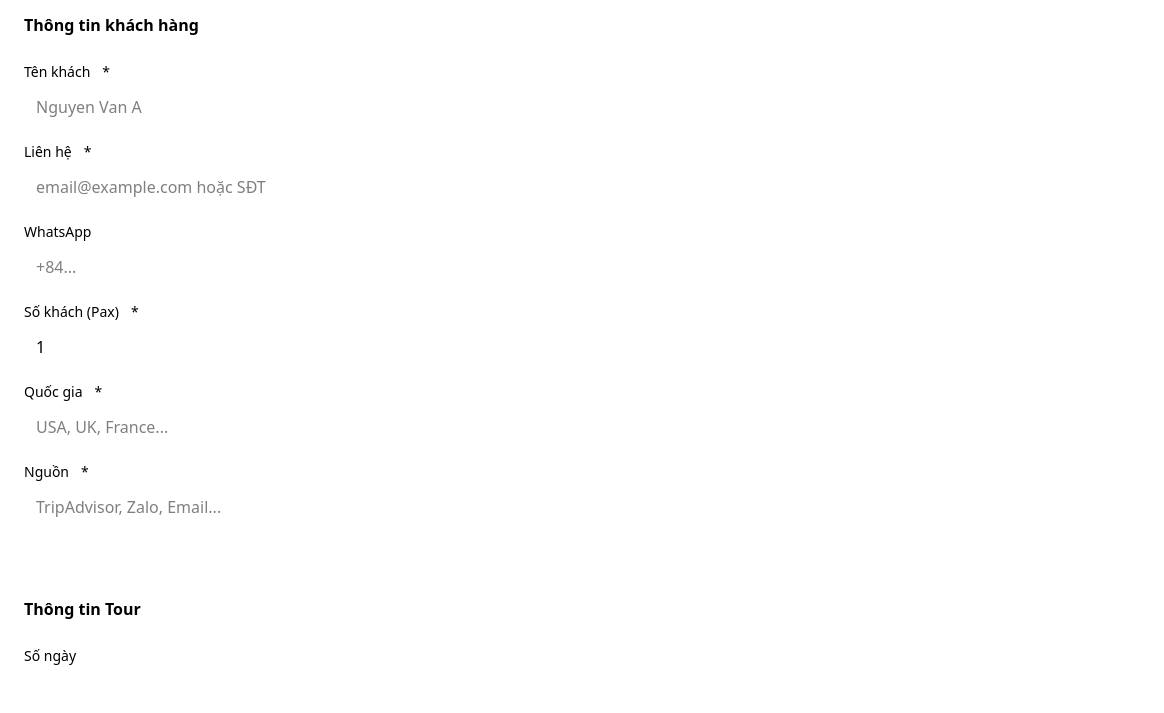
Test: RequestForm › Form Submission › displays error message on submit failure
# Fill required fields
Step 1. Type "Test Customer" into the field with placeholder "Nguyen Van A" → (576, 107), box 24,85 -> 1128,129
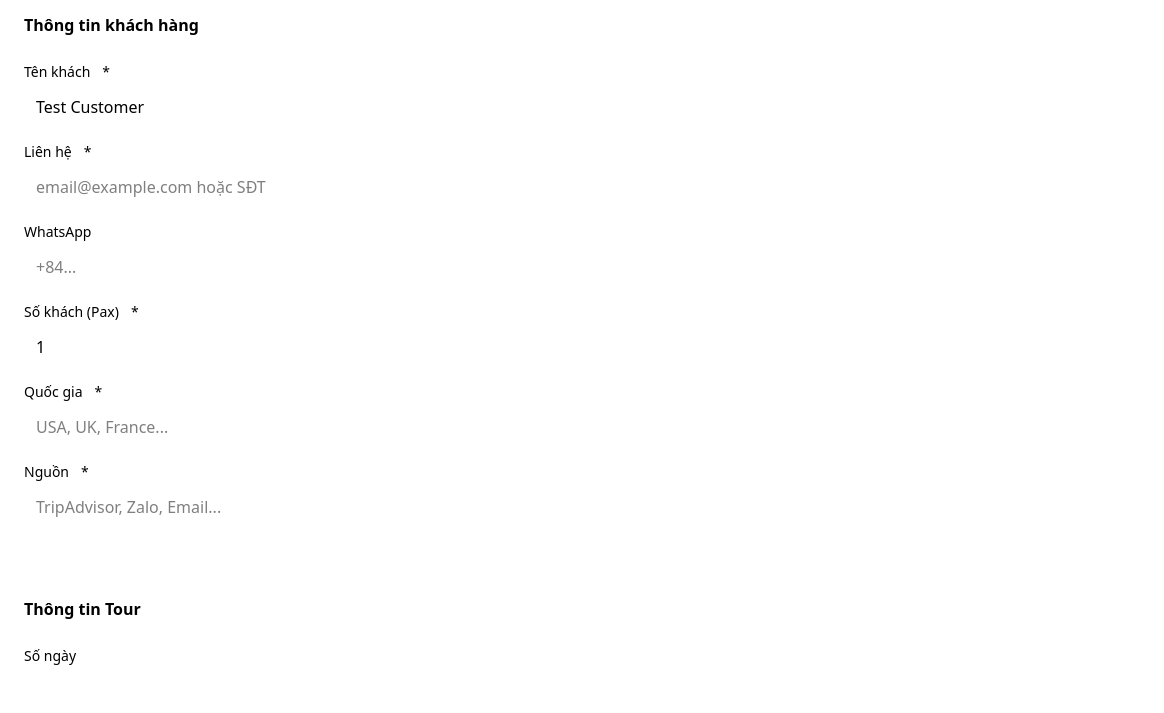
Step 2. Type "test@email.com" into the field with placeholder "email@example.com hoặc SĐT" → (576, 187), box 24,165 -> 1128,209
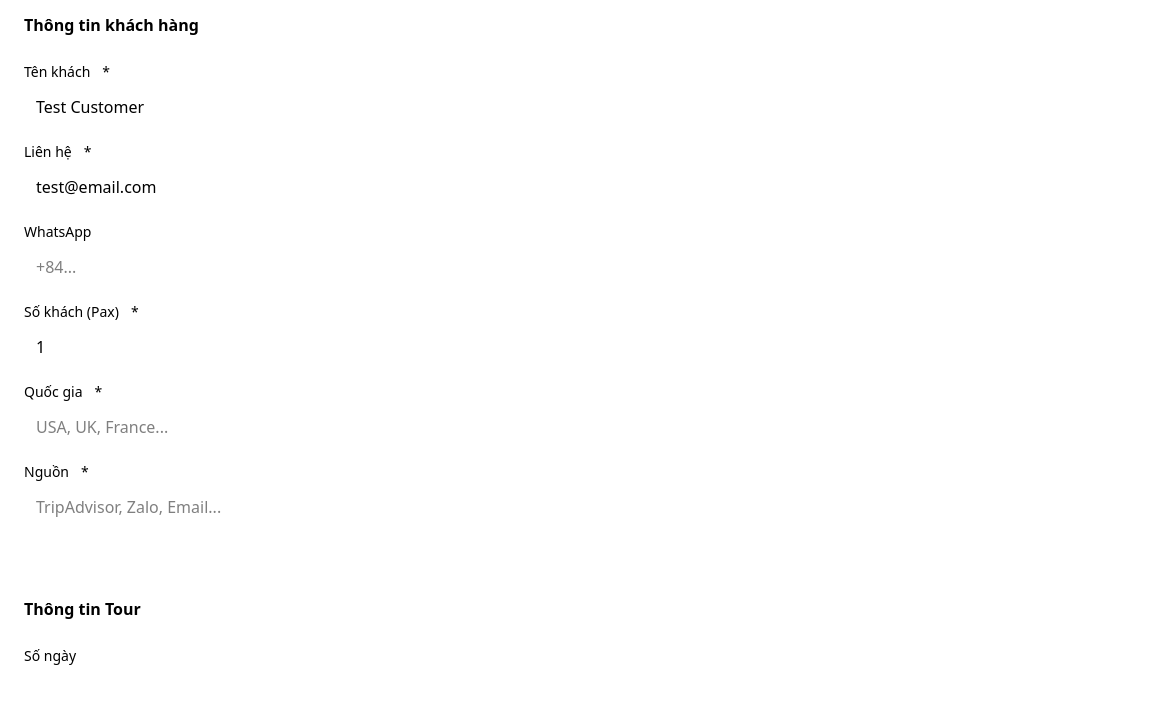
Step 3. Type "Vietnam" into the field with placeholder "USA, UK, France..." → (576, 427), box 24,405 -> 1128,449
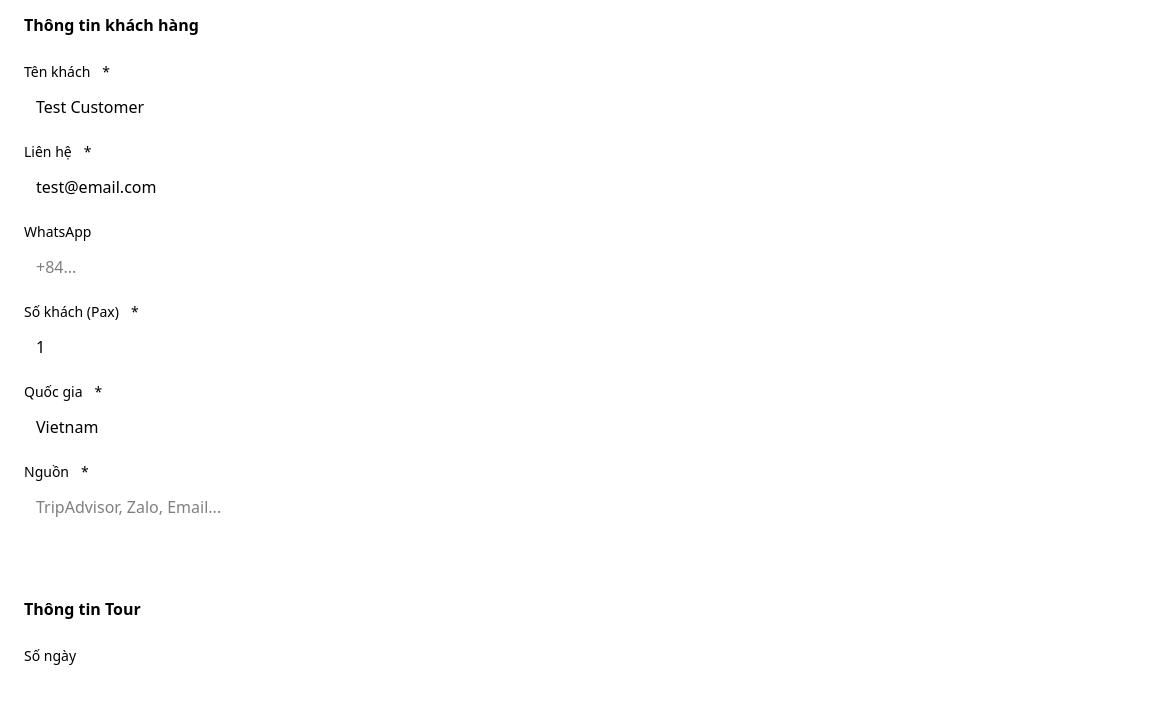
Step 4. Type "Direct" into the field with placeholder "TripAdvisor, Zalo, Email..." → (576, 507), box 24,485 -> 1128,529
(page scrolled)
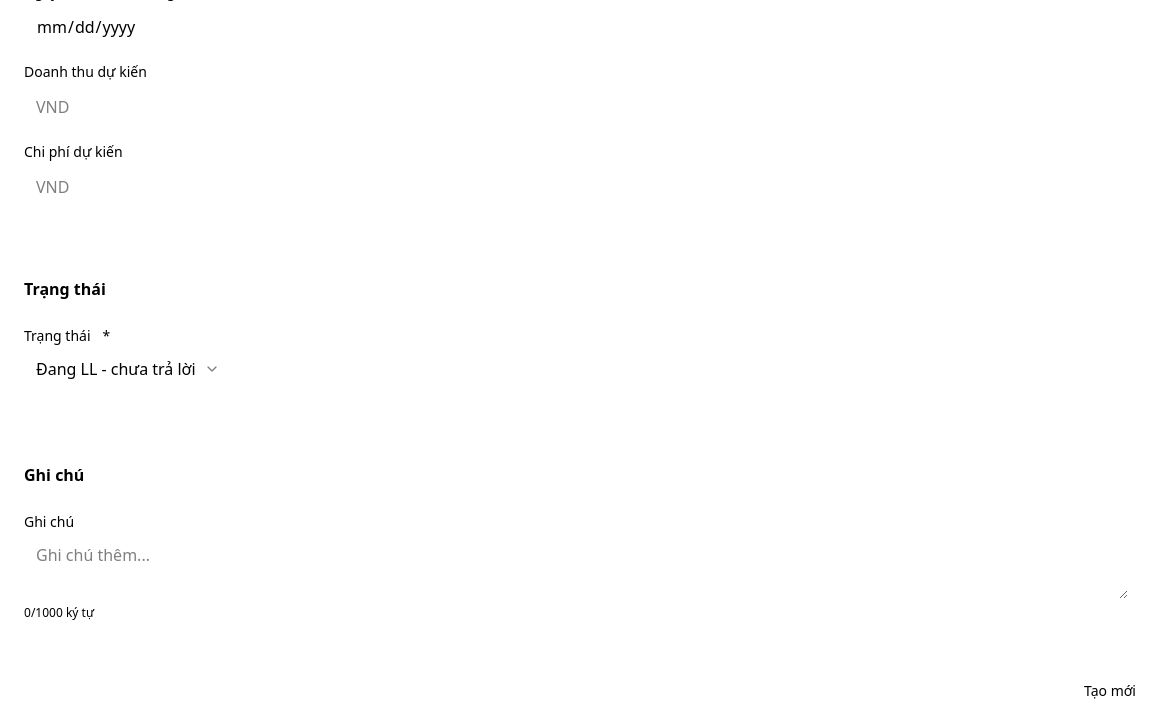
Step 5. Click the button "Tạo mới" → (1110, 691), box 1068,669 -> 1152,712
(page scrolled)
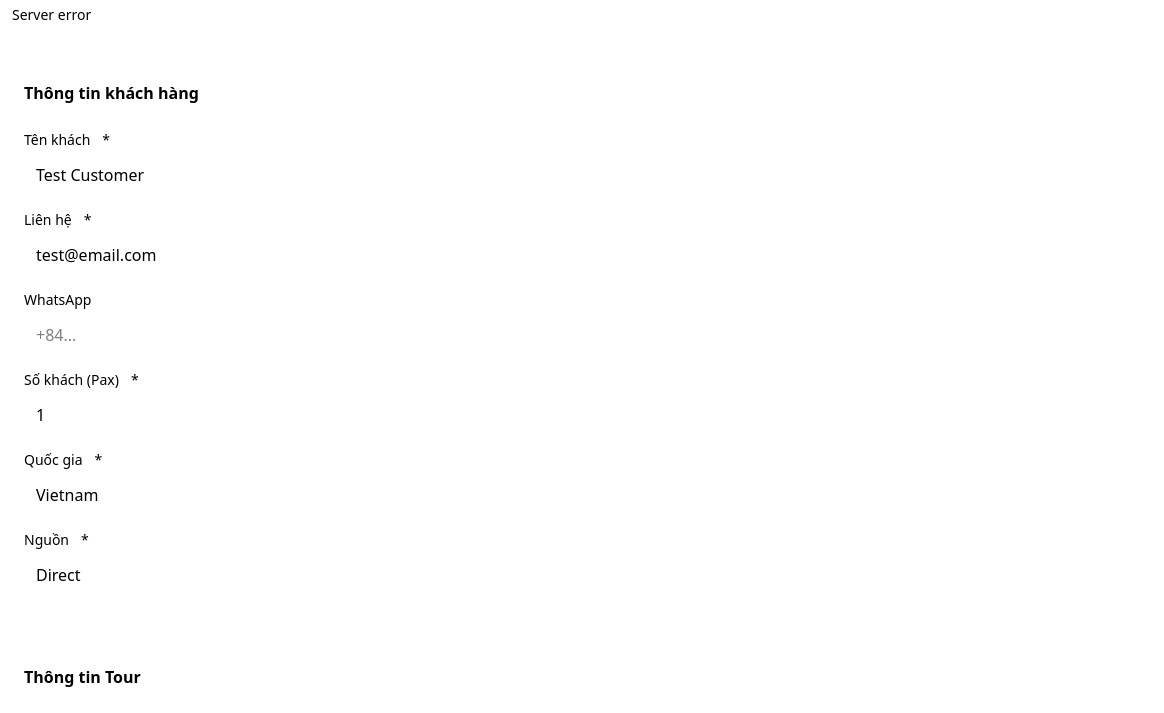
Result: the text "Server error" is shown at 12,5 -> 91,24
